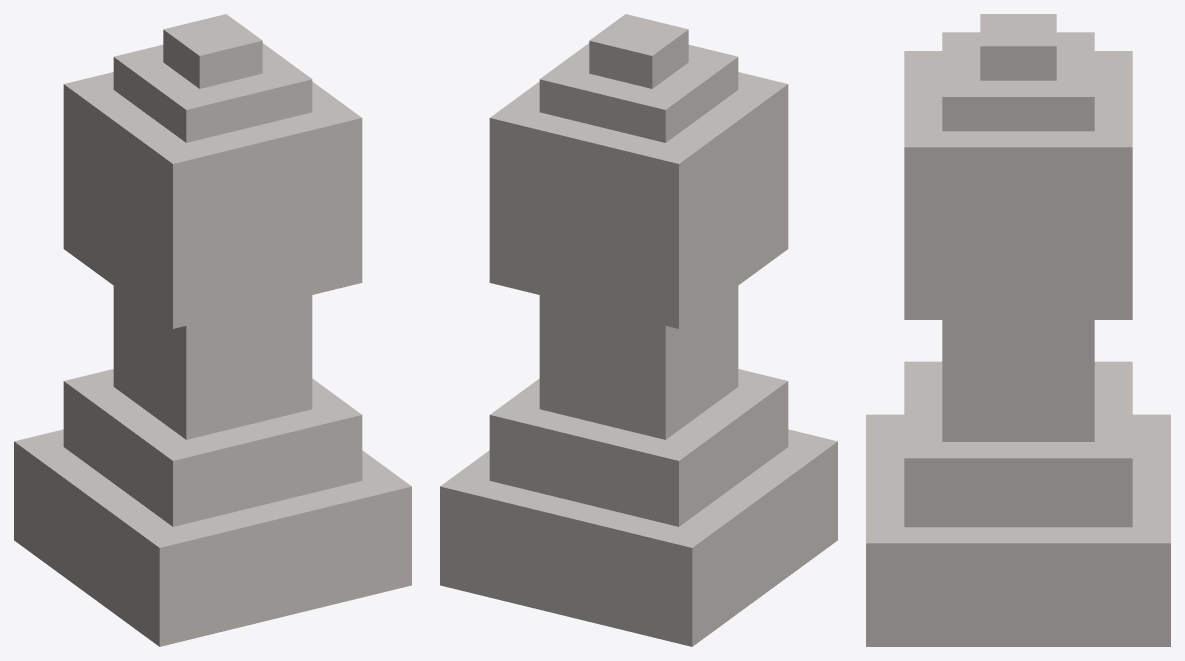
The model's file is token-v3-white.gltf.
The picture shows the model from 3 angles, left to right: view 1: azimuth 30°, elevation 25°; view 2: azimuth 150°, elevation 25°; view 3: azimuth 270°, elevation 25°; orthographic projection. The views are drawn at different scales.
Visible parts, largest first — view 1: Untitled; view 2: Untitled; view 3: Untitled.
Part boxes in pixels (bbox=[...]): Untitled: bbox=[14, 14, 411, 646]; Untitled: bbox=[440, 14, 837, 646]; Untitled: bbox=[866, 14, 1170, 646].
Size of the model in its own units: 0.8 by 1.6 by 0.8.
1 material, 1 textured.
